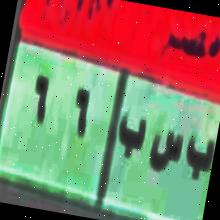6: (67, 80, 96, 141), (26, 70, 54, 132)
baa: (112, 106, 150, 170), (180, 126, 218, 184)
seen: (146, 121, 186, 185)
